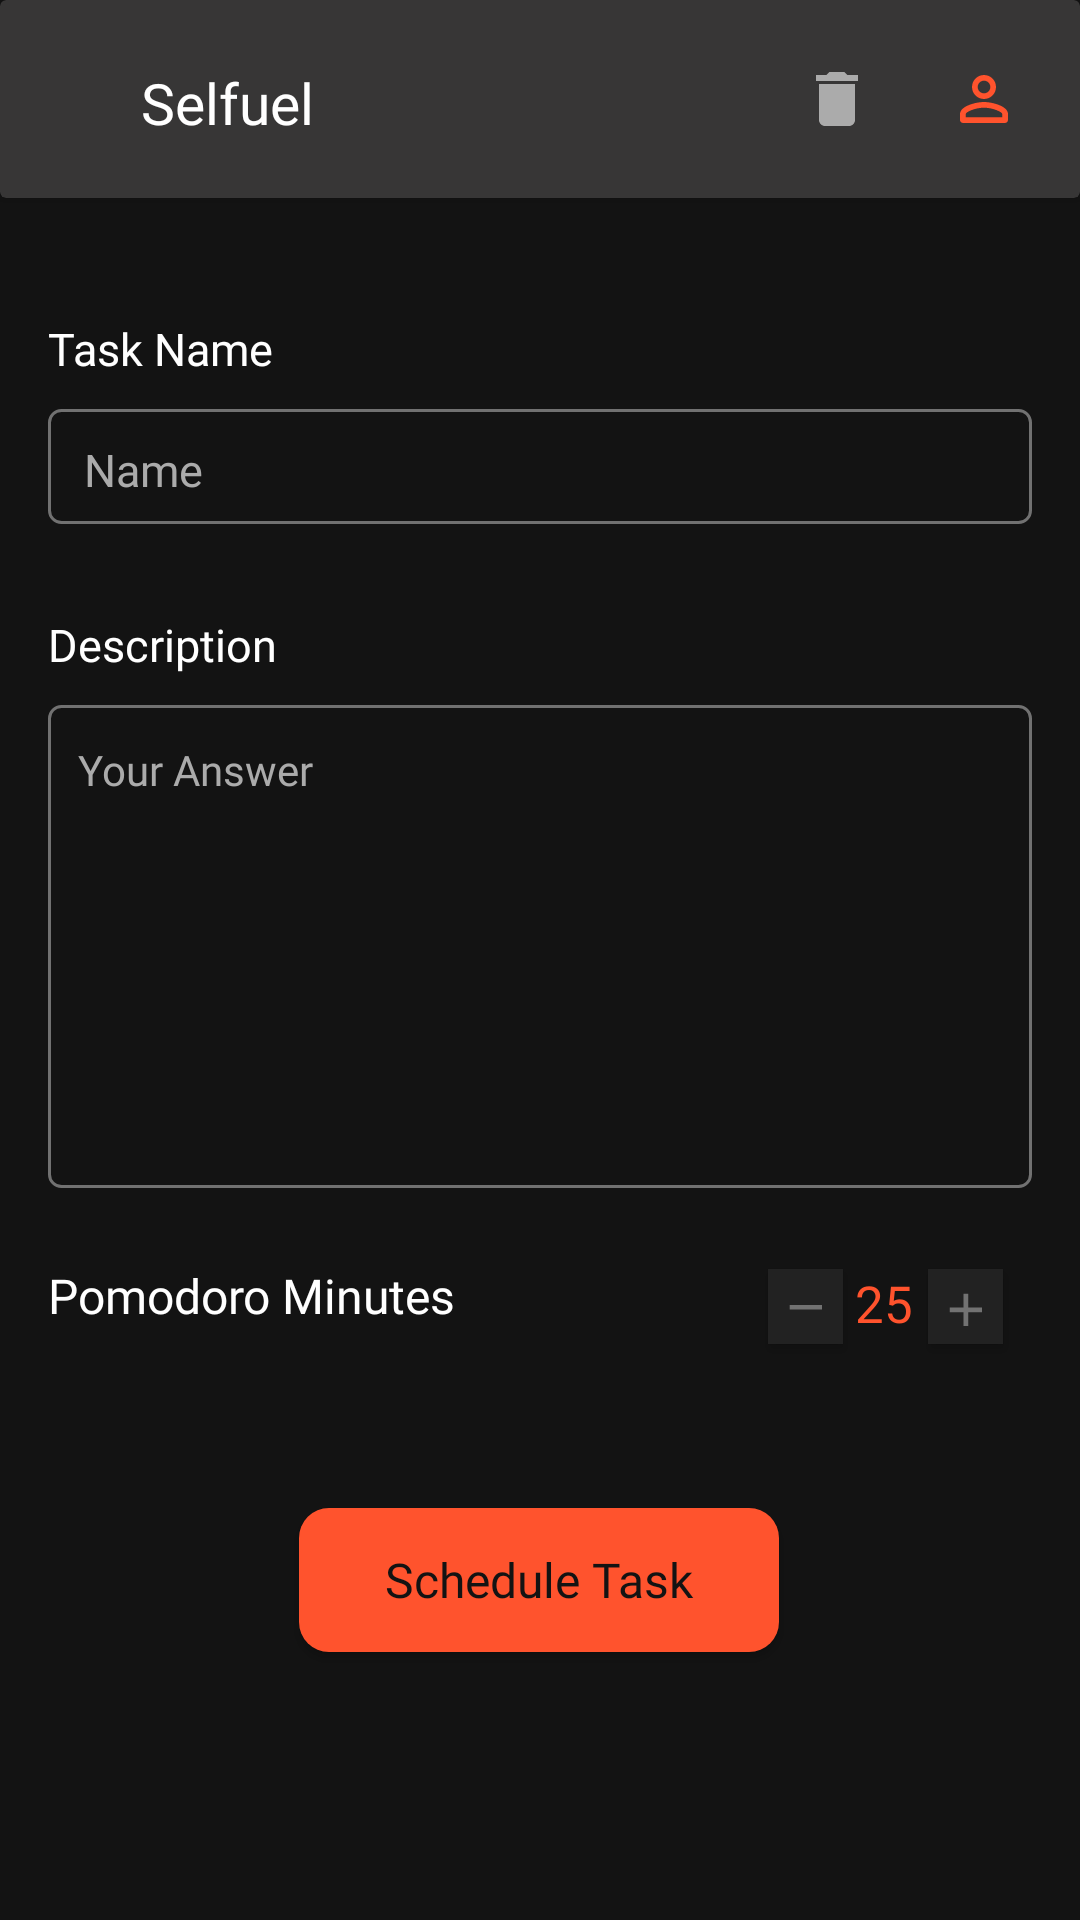

Screen size 1080×1920. Icon name, then its center in pixels as (x=x, y=y):
person: (x=984, y=99)
